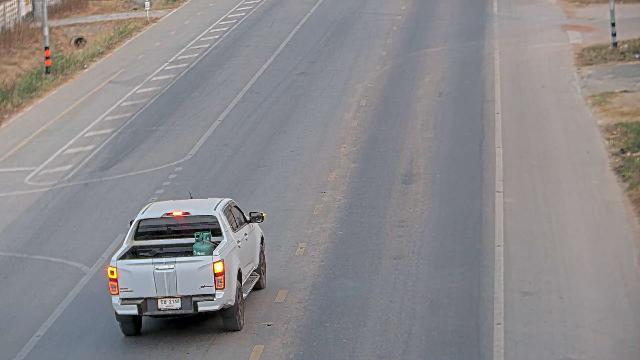pickup-truck: (106, 193, 267, 336)
